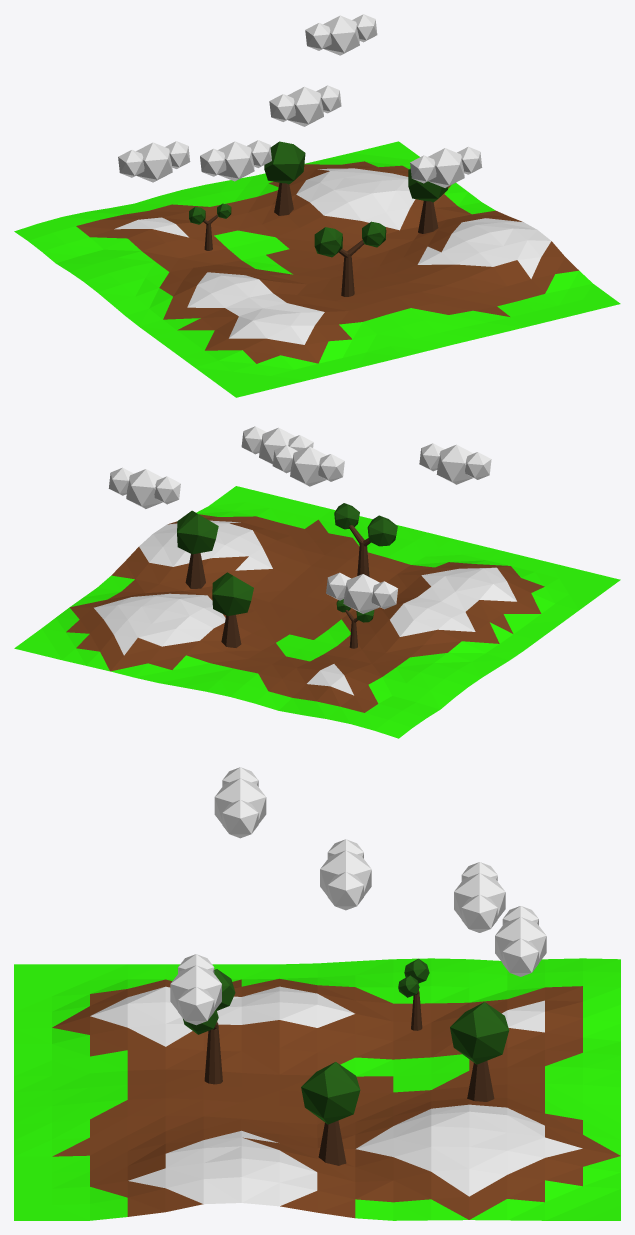
Rendered from RPG.fbx.
3 renders of one model, top to bottom at view 1: azimuth 30°, elevation 25°; view 2: azimuth 150°, elevation 25°; view 3: azimuth 270°, elevation 25°, orthographic. The views are drawn at different scales.
Visible parts, largest first — view 1: Terrain, Cloud, Cloud.004, Cloud.003, Cloud.002, Cloud.001, Tree2.001, Tree1, Tree1.001, Tree2; view 2: Terrain, Cloud.004, Cloud.001, Cloud.002, Cloud.003, Tree1.001, Tree1, Tree2.001, Cloud, Tree2; view 3: Terrain, Tree1.001, Tree1, Cloud.003, Cloud, Cloud.001, Cloud.004, Cloud.002, Tree2.001, Tree2.
Boxes of the visible parts, x1=… form: Terrain: x1=14, y1=141, x2=620, y2=397; Cloud: x1=410, y1=146, x2=482, y2=187; Cloud.004: x1=305, y1=14, x2=377, y2=55; Cloud.003: x1=200, y1=140, x2=271, y2=181; Cloud.002: x1=118, y1=141, x2=190, y2=182; Cloud.001: x1=269, y1=85, x2=341, y2=126; Tree2.001: x1=314, y1=221, x2=386, y2=296; Tree1: x1=264, y1=141, x2=305, y2=215; Tree1.001: x1=408, y1=168, x2=448, y2=233; Tree2: x1=189, y1=203, x2=231, y2=250; Terrain: x1=14, y1=486, x2=620, y2=738; Cloud.004: x1=108, y1=467, x2=180, y2=508; Cloud.001: x1=272, y1=445, x2=344, y2=486; Cloud.002: x1=326, y1=572, x2=397, y2=613; Cloud.003: x1=419, y1=443, x2=491, y2=484; Tree1.001: x1=177, y1=510, x2=218, y2=588; Tree1: x1=212, y1=572, x2=253, y2=647; Tree2.001: x1=334, y1=503, x2=397, y2=576; Cloud: x1=241, y1=426, x2=313, y2=464; Tree2: x1=336, y1=599, x2=374, y2=648; Terrain: x1=14, y1=958, x2=620, y2=1220; Tree1.001: x1=301, y1=1062, x2=360, y2=1165; Tree1: x1=450, y1=1002, x2=509, y2=1101; Cloud.003: x1=214, y1=767, x2=266, y2=838; Cloud: x1=170, y1=954, x2=221, y2=1025; Cloud.001: x1=320, y1=839, x2=371, y2=910; Cloud.004: x1=495, y1=906, x2=546, y2=976; Cloud.002: x1=454, y1=862, x2=505, y2=932; Tree2.001: x1=183, y1=969, x2=235, y2=1084; Tree2: x1=398, y1=958, x2=429, y2=1030.
Size of the model in its own units: 2000 by 874 by 2000.
